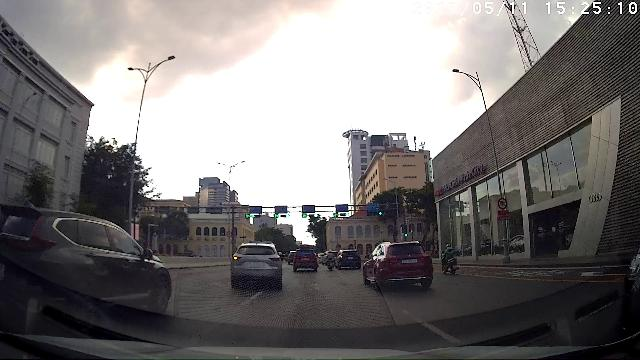124b-cam-oto-quay-dau-xe: (497, 197, 508, 209)
